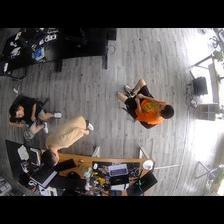normal: (115, 75, 175, 132), (9, 92, 55, 134)
